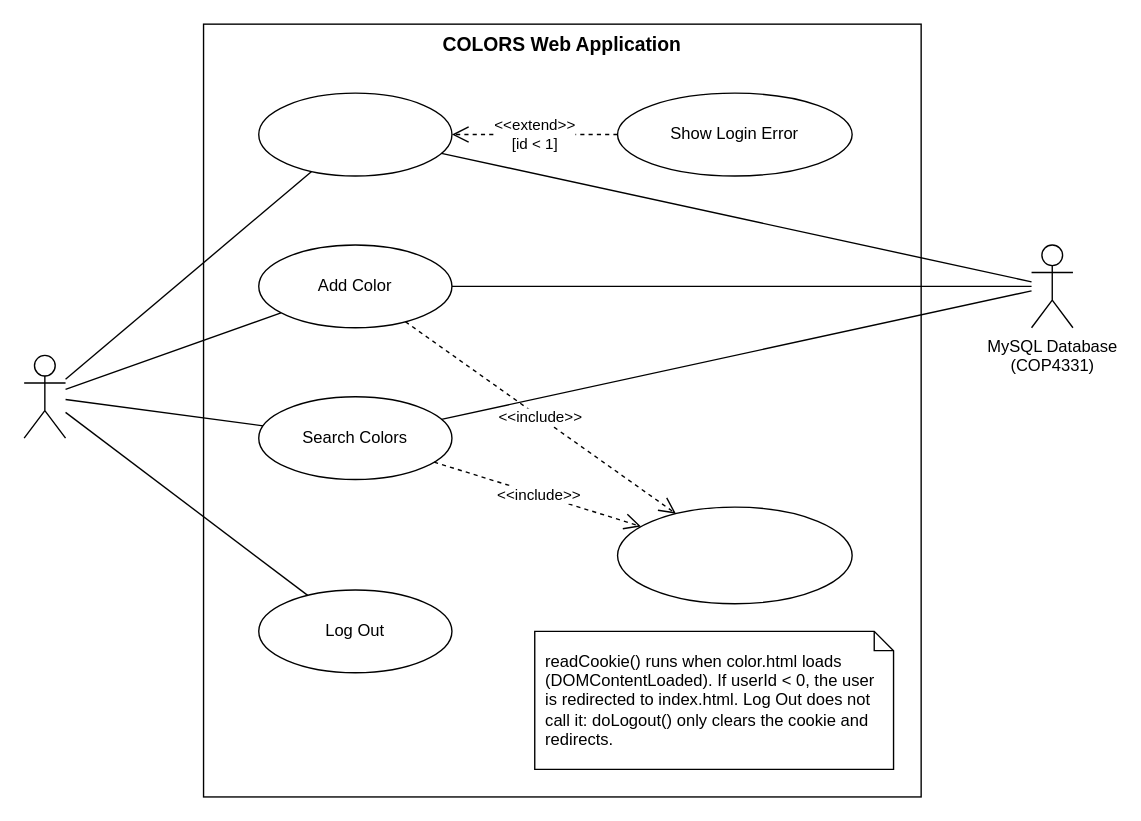
The diagram is 1141 pixels wide and 821 high, and some of its shapes have lost their labels. The centre of each missing label's shape, as x and y in pixels:
"Log In" belongs at [354,134].
"User" belongs at [44,396].
"Verify Session (read cookie)" belongs at [734,555].
